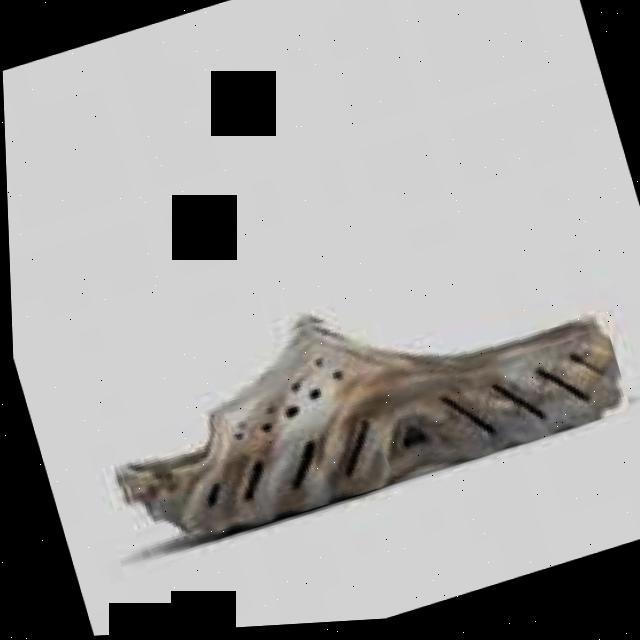shoe: (117, 322, 617, 537)
